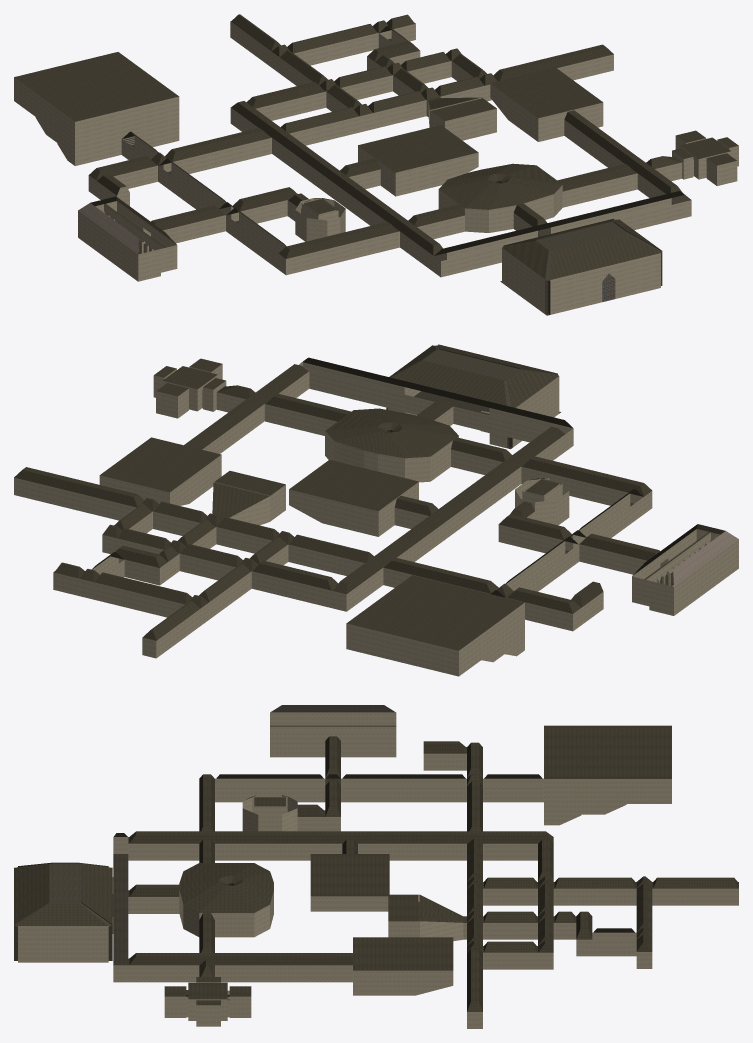
The picture shows the model from 3 angles, top to bottom: view 1: azimuth 30°, elevation 25°; view 2: azimuth 150°, elevation 25°; view 3: azimuth 270°, elevation 25°; orthographic projection. The views are drawn at different scales.
Parts seen in each view (by area): view 1: Room33, Room1, Room17, Room29, Room3, Room6, Room31, Room32, Room2, Room21, Room11, Room9 (+19 smaller); view 2: Room33, Room17, Room1, Room3, Room29, Room6, Room2, Room31, Room21, Room32, Room11, Room23 (+18 smaller); view 3: Room33, Room3, Room1, Room10, Room8, Room31, Room6, Room32, Room22, Room29, Room28, Room17 (+20 smaller).
Boxes of the visible parts, x1,y1,x2,y2 form: Room33: (14, 52, 179, 165); Room1: (500, 218, 662, 315); Room17: (280, 44, 613, 145); Room29: (340, 125, 478, 196); Room3: (230, 101, 446, 271); Room6: (438, 163, 562, 232); Room31: (78, 196, 177, 281); Room32: (490, 67, 603, 141); Room2: (433, 191, 691, 277); Room21: (246, 48, 461, 120); Room11: (88, 128, 271, 196); Room9: (278, 222, 399, 275); Room33: (346, 575, 524, 676); Room17: (14, 467, 373, 575); Room1: (386, 344, 560, 449); Room3: (332, 426, 565, 611); Room29: (289, 459, 438, 536); Room6: (325, 408, 458, 482); Room2: (299, 357, 573, 450); Room31: (632, 524, 738, 615); Room21: (102, 524, 338, 608); Room32: (99, 437, 221, 505); Room11: (383, 557, 581, 631); Room23: (53, 562, 192, 617); Room33: (544, 725, 671, 825); Room3: (128, 831, 553, 860); Room1: (14, 862, 112, 962); Room10: (215, 774, 466, 802); Room8: (128, 953, 352, 982); Room31: (270, 705, 396, 757); Room6: (179, 863, 273, 937); Room32: (353, 937, 453, 995); Room22: (553, 876, 738, 905); Room29: (310, 839, 389, 911); Room28: (164, 977, 251, 1026); Room17: (467, 838, 482, 1028).
Size of the model in its own units: 1344 by 1413 by 140.
